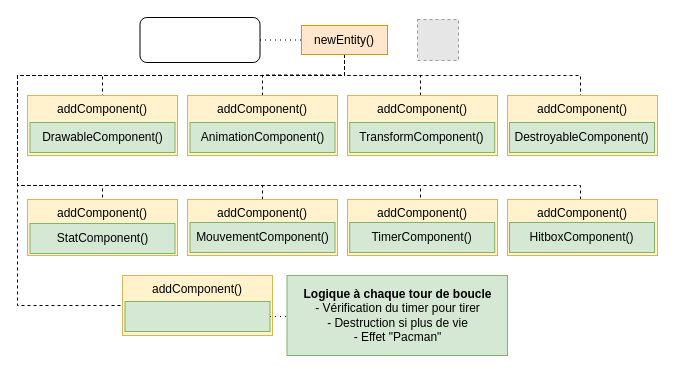
The diagram is 675 pixels wide and 373 high, and some of its shapes have lost their labels. Grey dashed boxes stand in for pictures. Here are the shapes that lost their labels. From the top down, the centre of each, then its label:
At pixel 199 39: "EntityManager".
At pixel 197 316: "BehaviorComponent()".
